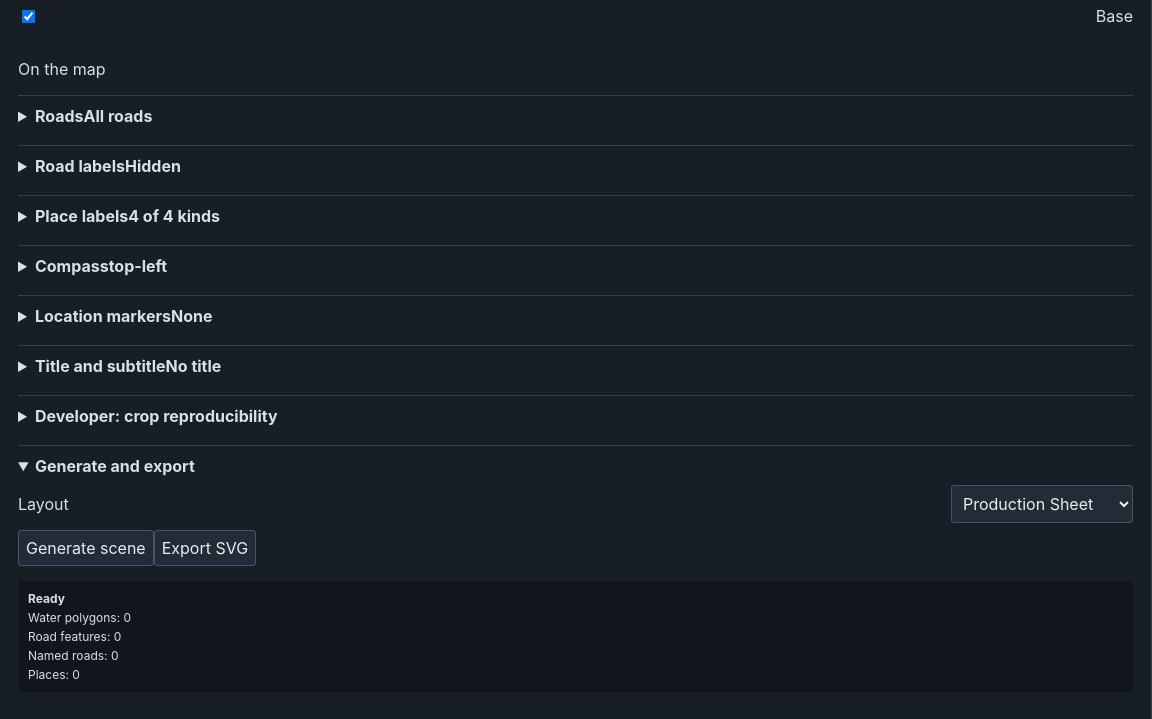
Test: Controls: developer crop JSON tool › reports a clear failure for invalid JSON instead of throwing
The width and height of the screenshot is (1152, 719).
(page scrolled)
Click the heading "Developer: crop reproducibility": (156, 416) [35, 406, 278, 426]
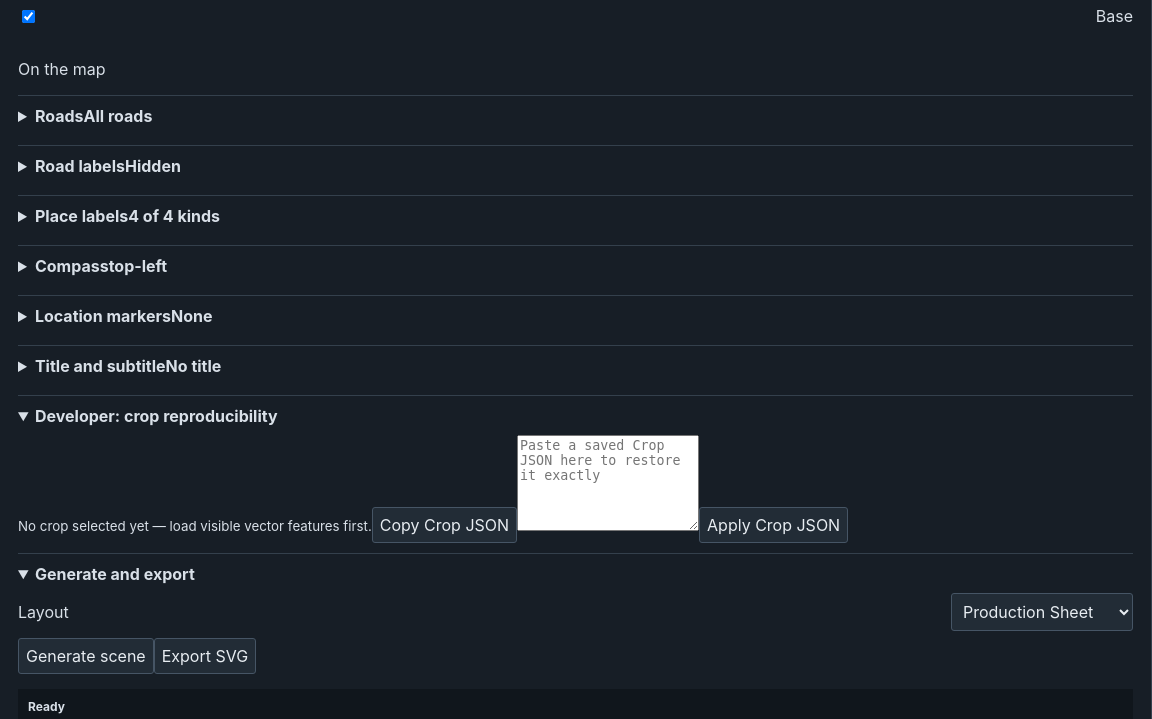
In the text box with placeholder "Paste a saved Crop JSON here to restore it exactly": (608, 483) [517, 435, 699, 531], type "not json"
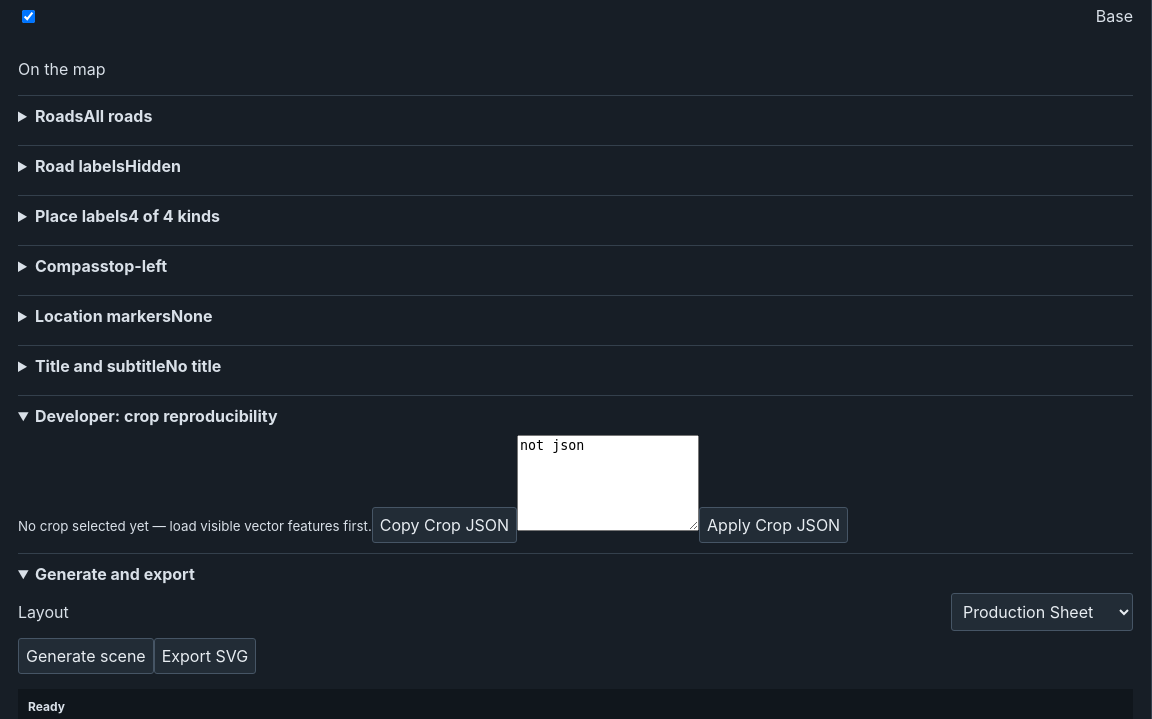
Click the button "Apply Crop JSON": (774, 525) [699, 507, 848, 543]
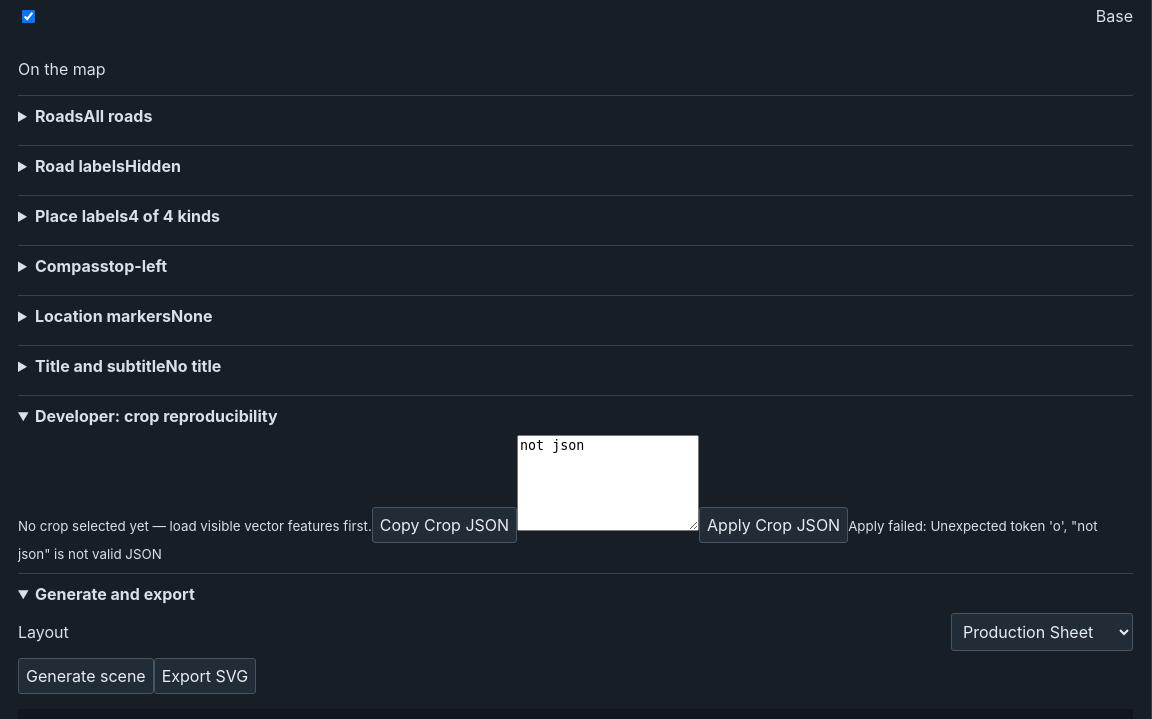
Now the text "Apply failed:" is shown, box [18, 518, 1098, 562]
